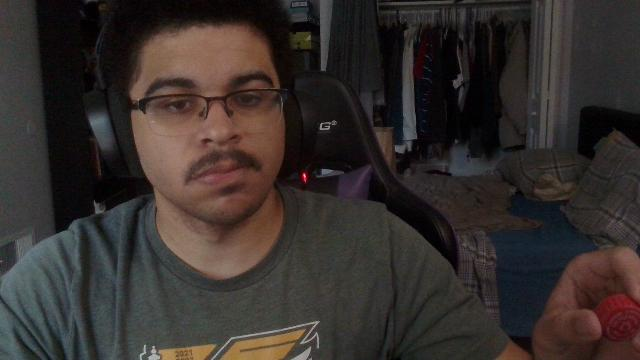cap: (594, 293, 640, 341)
